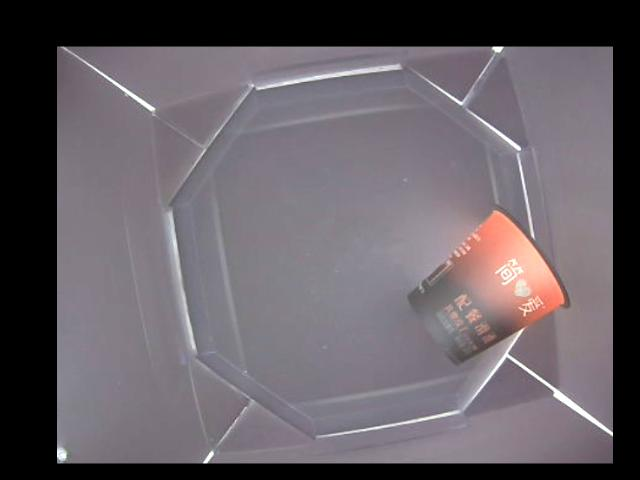Cup: (407, 202, 573, 363)
